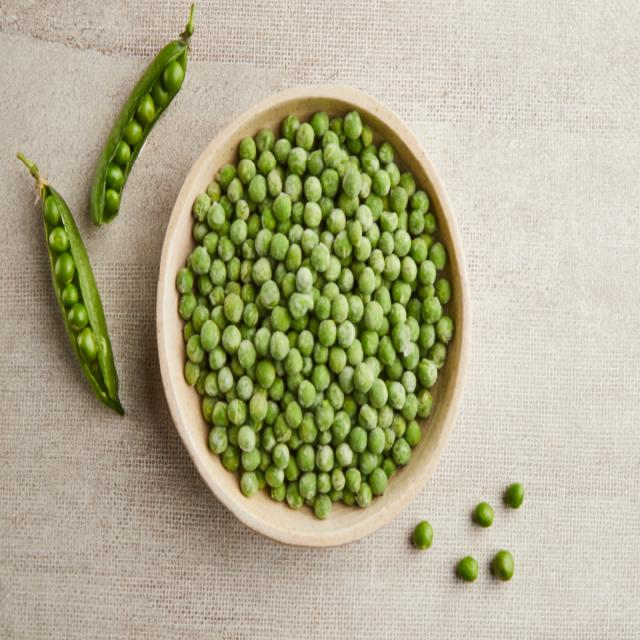arvejas: (172, 110, 460, 531)
